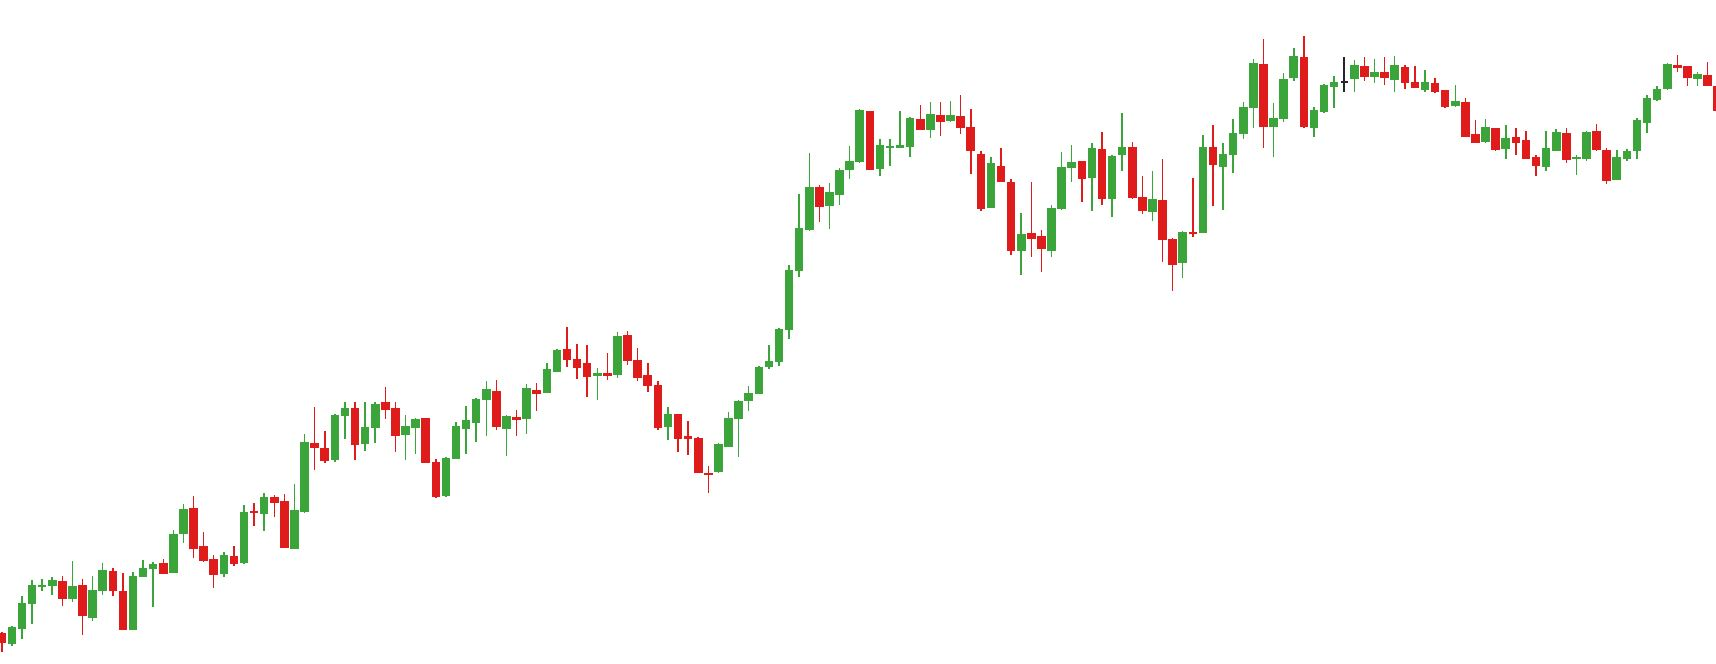buy: (1037, 149, 1189, 299), (349, 389, 461, 502)
